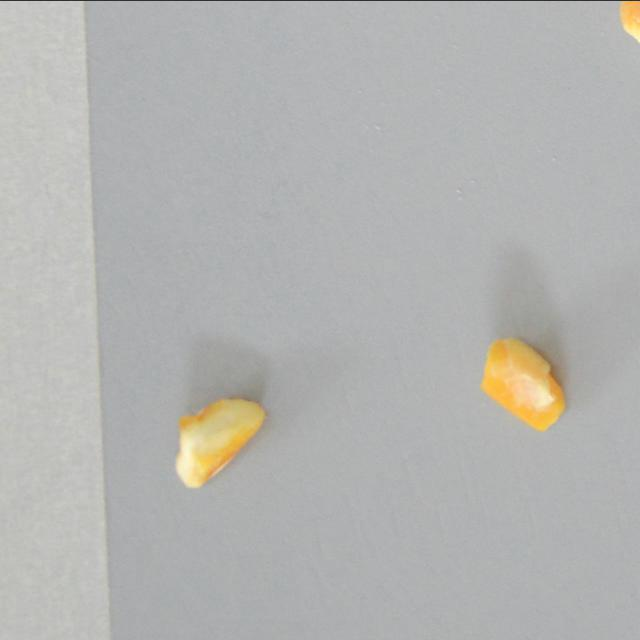dañado: (170, 390, 272, 492), (473, 333, 570, 432), (608, 0, 640, 50)
